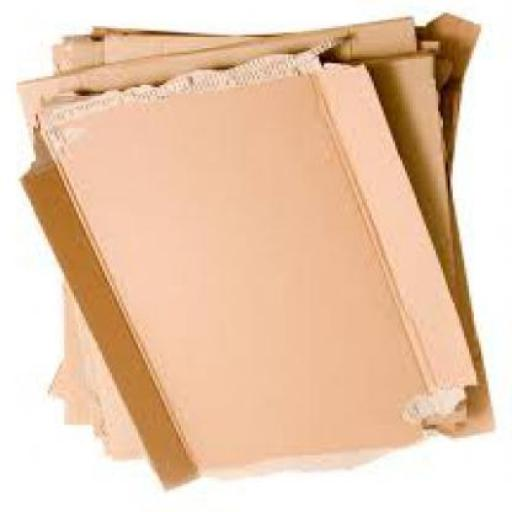cardboard: (22, 50, 500, 493), (31, 33, 466, 484), (52, 22, 450, 334), (414, 15, 491, 192), (64, 274, 105, 430), (98, 351, 147, 464)
